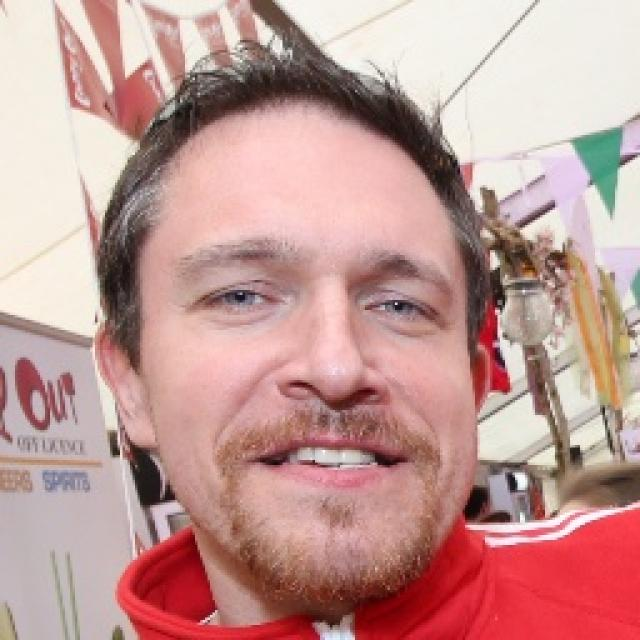earlobe: (92, 320, 160, 451)
